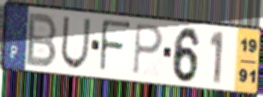1: (209, 30, 226, 86)
6: (170, 25, 203, 85)
B: (24, 11, 59, 69)
F: (98, 18, 133, 75)
P: (132, 22, 165, 77)
U: (59, 15, 93, 71)
